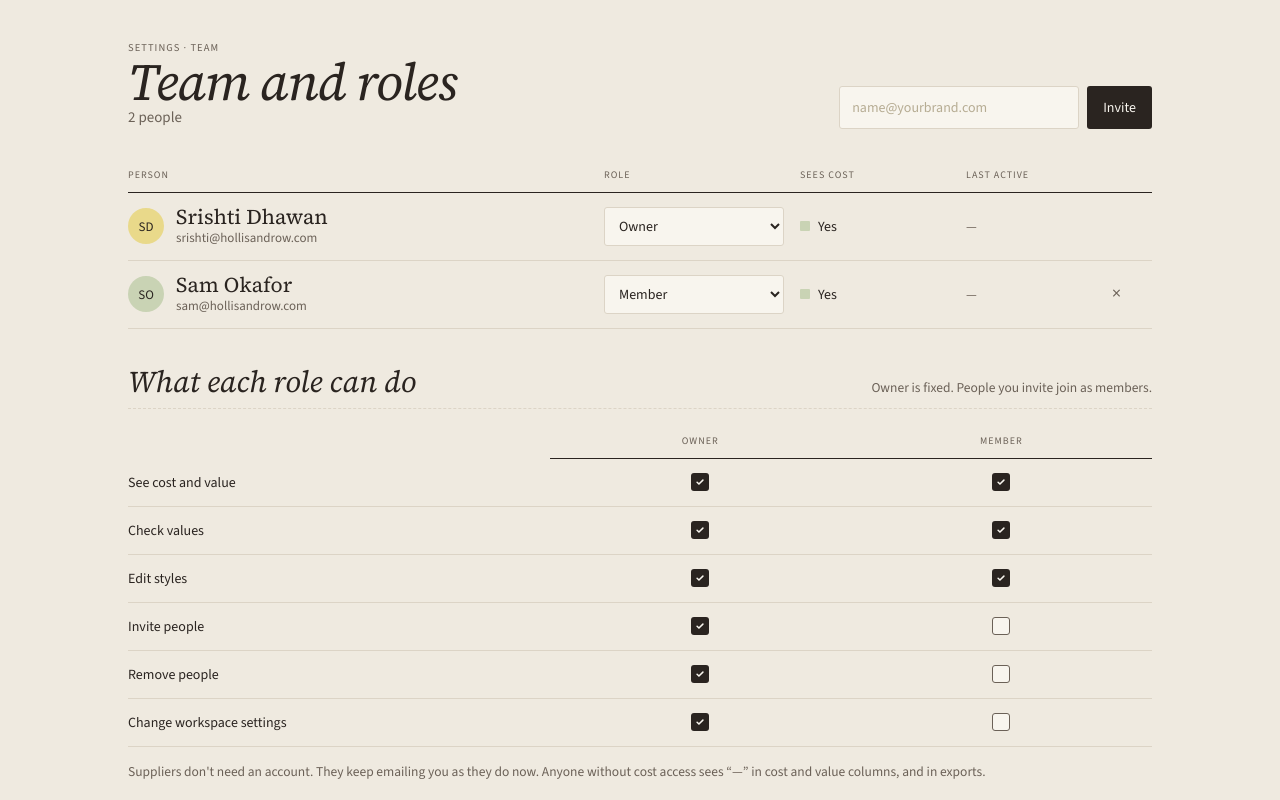
Scenario: TeamPage › lets an owner remove a member
Click the button named "Remove Sam Okafor" at coordinates (1116, 293), box [1112, 284, 1121, 302]
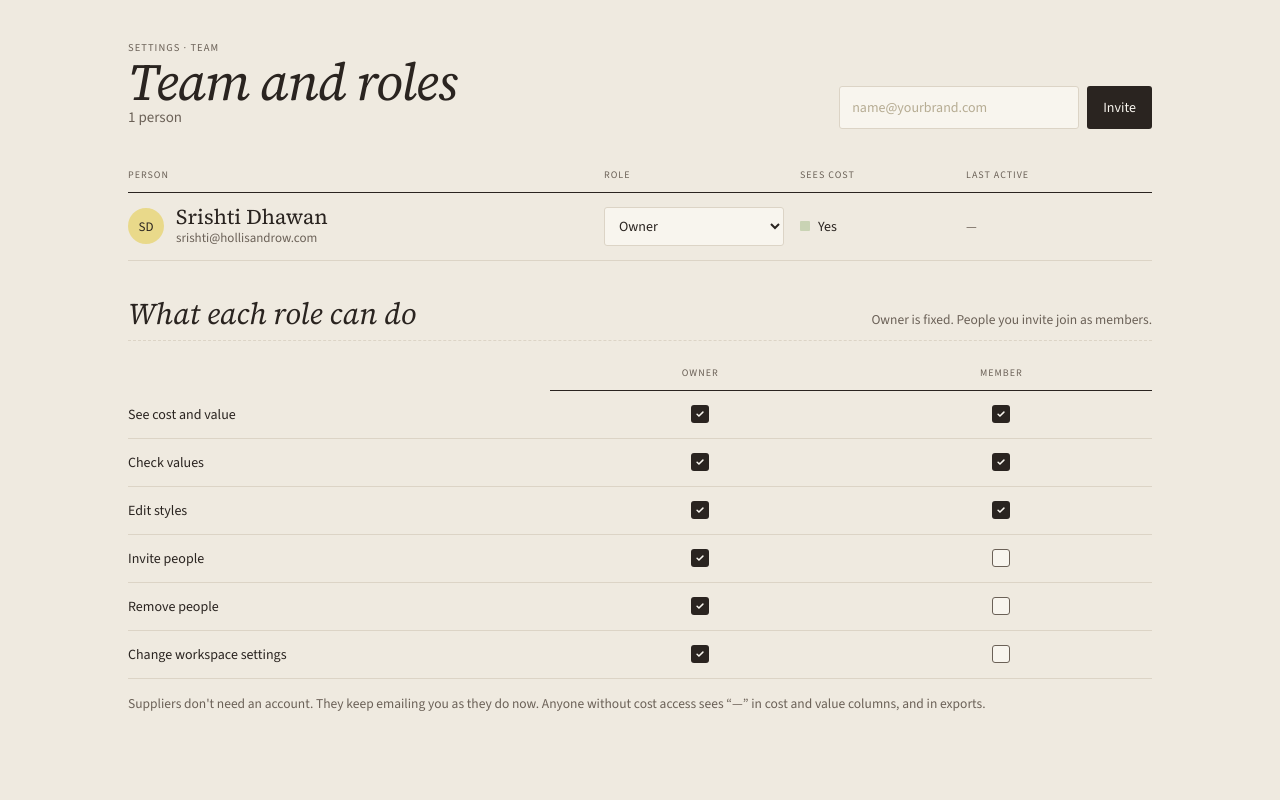
Now the text "1 person" is shown, box [128, 107, 182, 127]
Now the text "Sam Okafor" is gone
